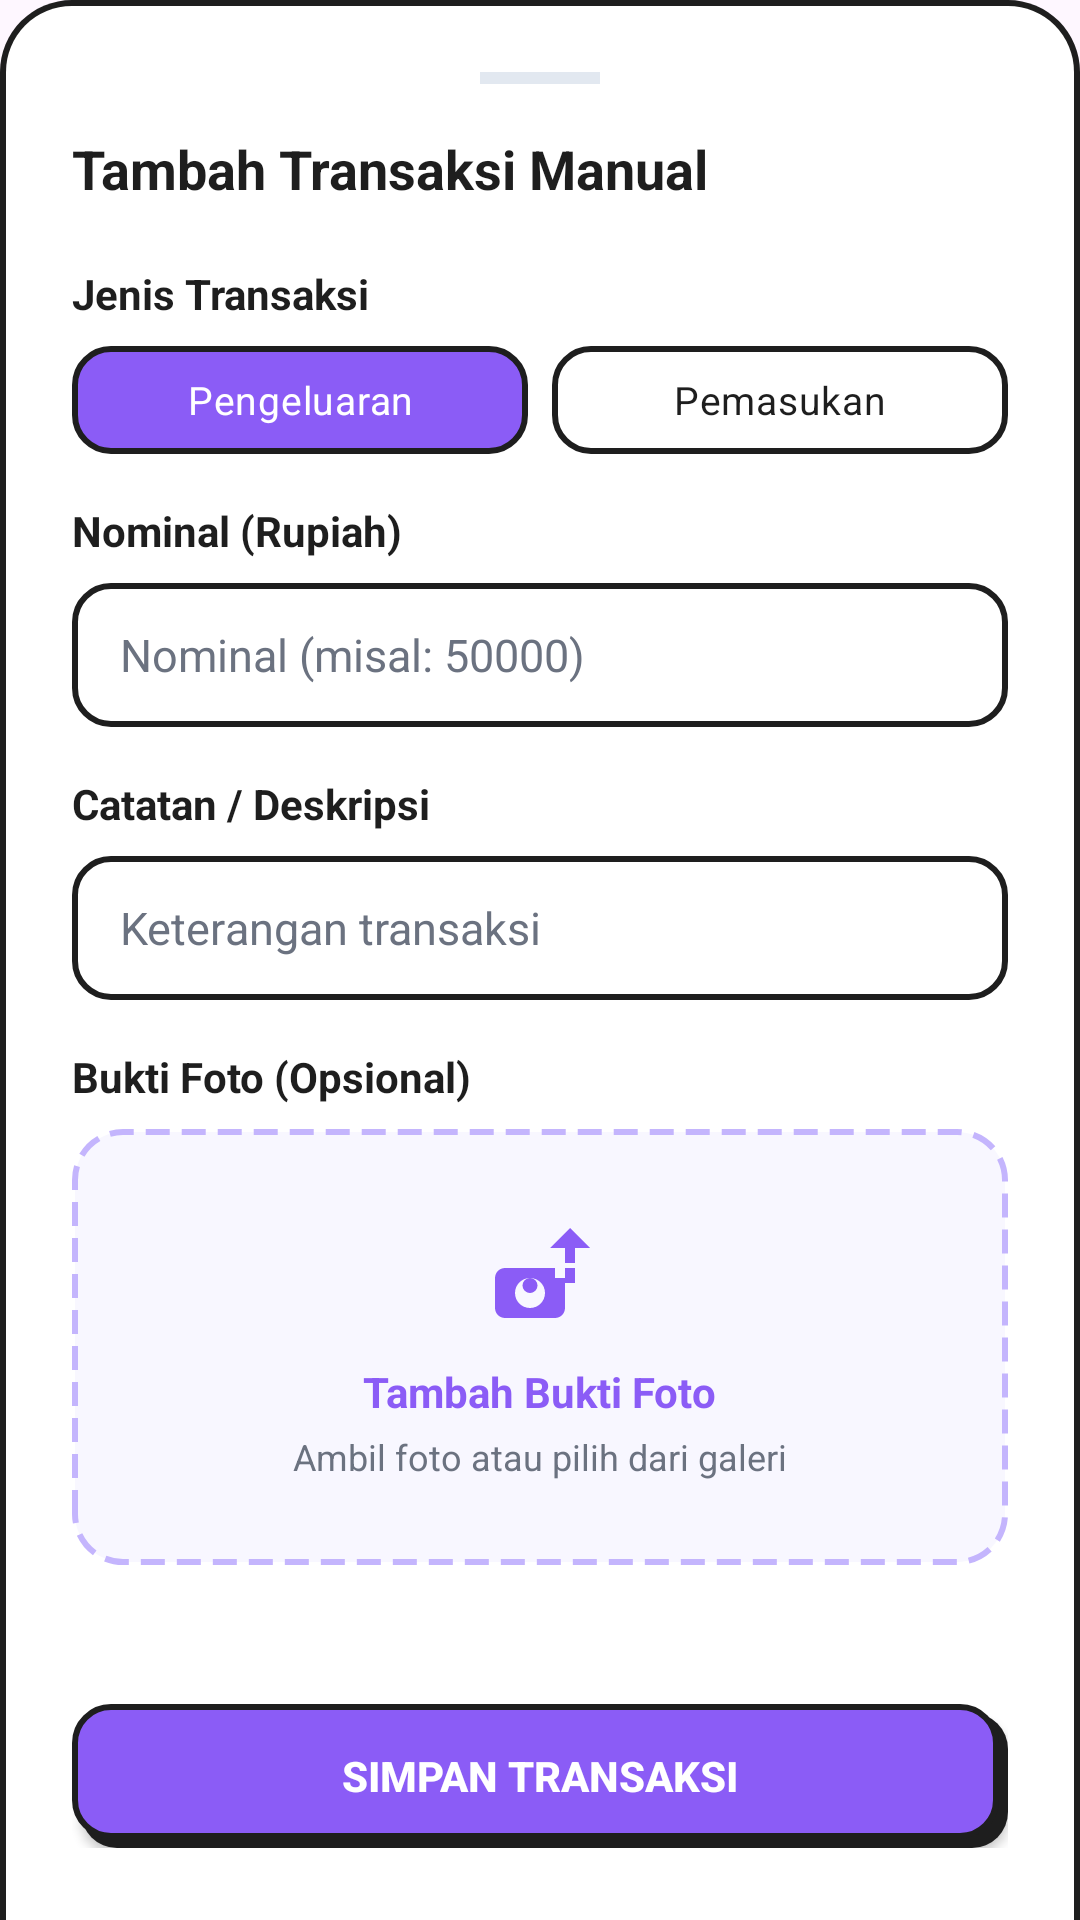

Where icons sit on this 1080*1920 app screen, as rect(x1, y1, x2, y2):
Upload: rect(495, 1228, 590, 1318)
